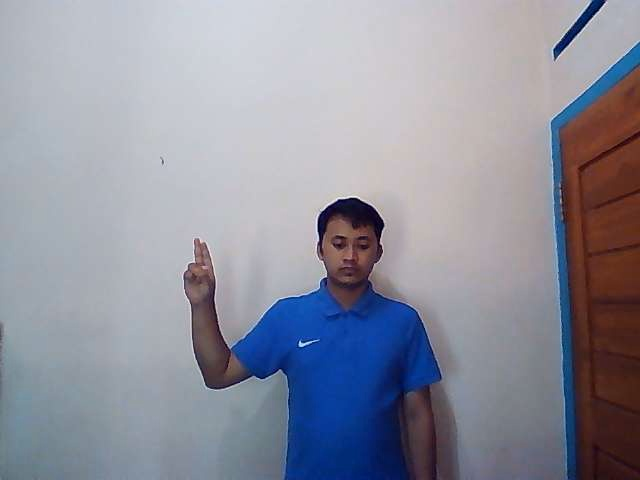U: (181, 237, 216, 304)
